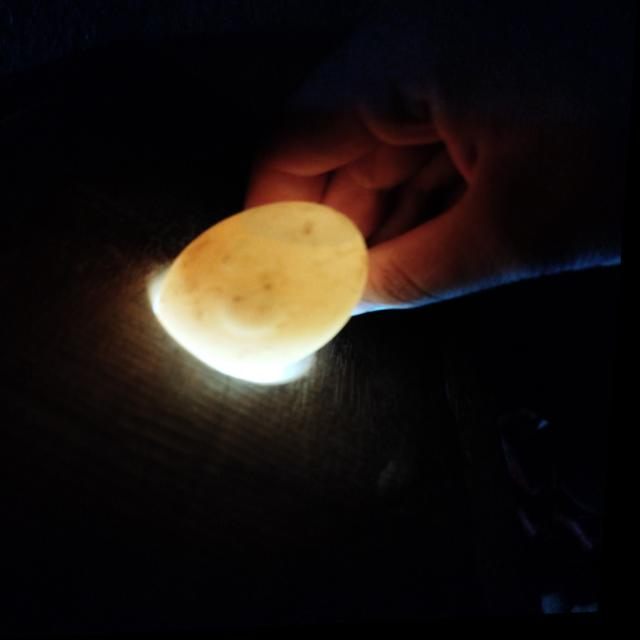Camara de Ar: (237, 206, 365, 250)
